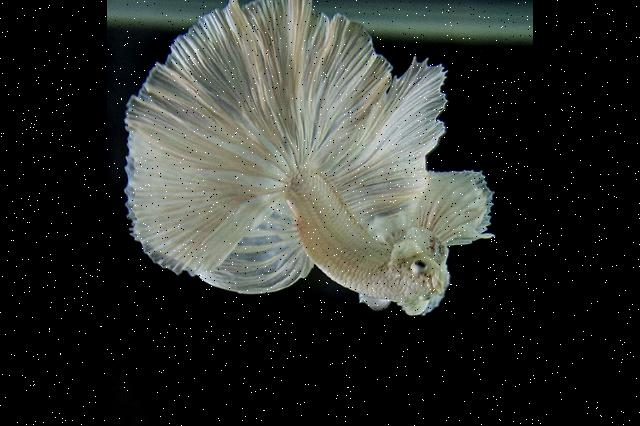Mulut: (420, 264, 456, 304)
